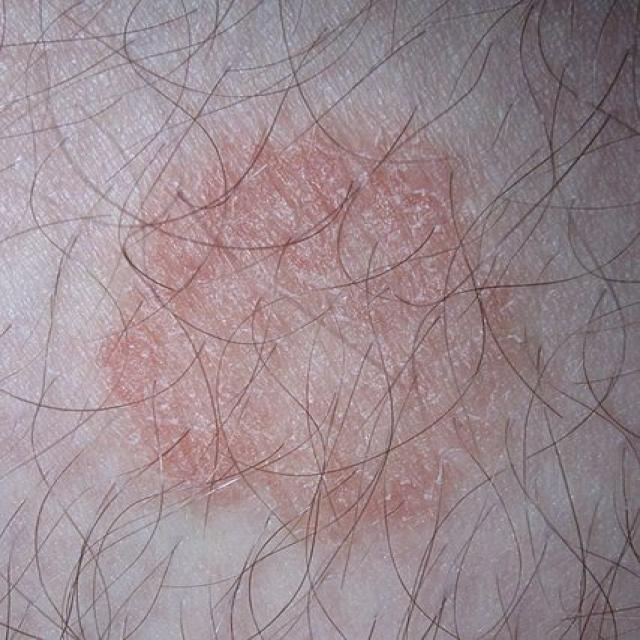tinea: (117, 113, 550, 572)
